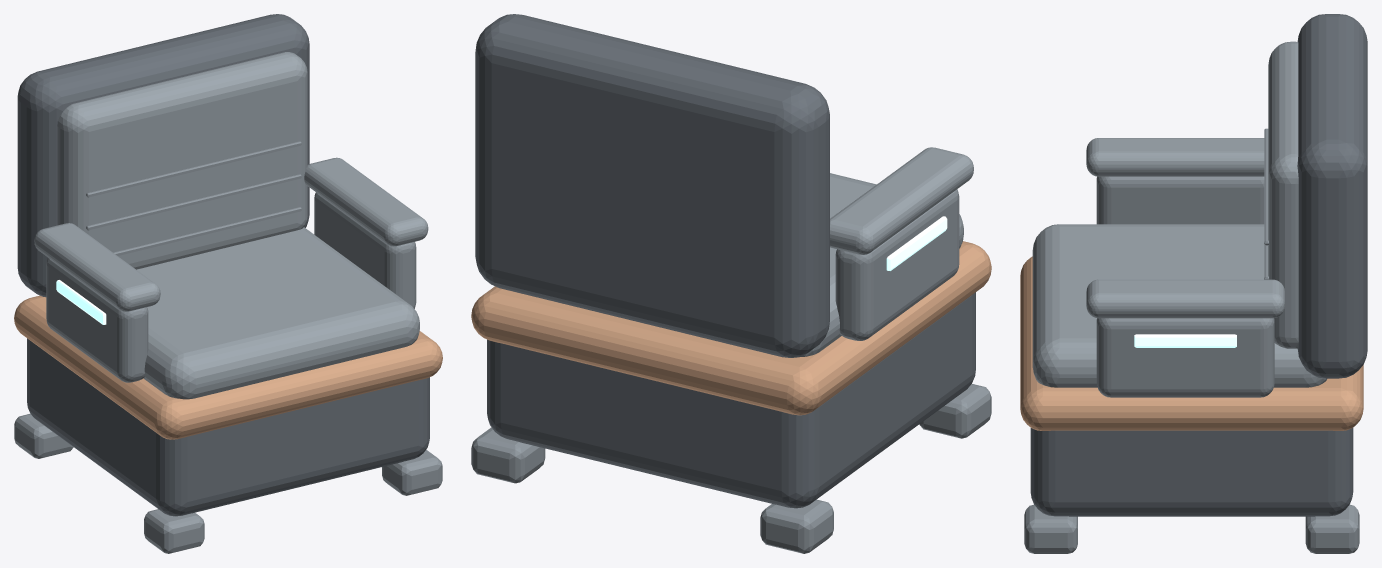
Rendered from reading_armchair.glb.
3 views of the same model, side by side, from view 1: azimuth 30°, elevation 25°; view 2: azimuth 150°, elevation 25°; view 3: azimuth 270°, elevation 25° (orthographic). The views are drawn at different scales.
Visible parts, largest first — view 1: back_cushion_009, seat_cushion_007, shell_005, back_shell_008, seat_frame_006, shell_013, shell_014, shell_017, shell_016, foot_002, foot_004, foot_001 (+4 smaller); view 2: back_shell_008, shell_005, seat_frame_006, shell_013, shell_014, foot_001, foot_003, foot_002, seat_cushion_007, shell_015; view 3: shell_005, back_shell_008, seat_cushion_007, seat_frame_006, shell_016, back_cushion_009, shell_013, shell_017, shell_014, foot_003, foot_004, shell_018 (+1 smaller).
Boxes of the visible parts, box(x1,y1,x2,y2) form: back_cushion_009: box(57, 52, 307, 269); seat_cushion_007: box(136, 227, 419, 399); shell_005: box(27, 338, 429, 516); back_shell_008: box(17, 14, 309, 297); seat_frame_006: box(14, 295, 442, 439); shell_013: box(46, 257, 148, 382); shell_014: box(34, 223, 160, 311); shell_017: box(304, 157, 428, 246); shell_016: box(314, 192, 416, 308); foot_002: box(144, 509, 204, 553); foot_004: box(382, 449, 442, 495); foot_001: box(14, 413, 73, 458); back_shell_008: box(475, 14, 829, 357); shell_005: box(487, 292, 975, 508); seat_frame_006: box(471, 241, 991, 415); shell_013: box(835, 189, 959, 340); shell_014: box(830, 147, 973, 254); foot_001: box(760, 499, 833, 553); foot_003: box(471, 427, 545, 483); foot_002: box(919, 384, 991, 438); seat_cushion_007: box(799, 173, 963, 357); shell_015: box(886, 216, 947, 270); shell_005: box(1030, 428, 1353, 516); back_shell_008: box(1297, 14, 1367, 378); seat_cushion_007: box(1032, 224, 1326, 387); seat_frame_006: box(1020, 256, 1363, 430); shell_016: box(1096, 318, 1274, 397); back_cushion_009: box(1268, 41, 1298, 348); shell_013: box(1096, 176, 1264, 224); shell_017: box(1086, 279, 1284, 318); shell_014: box(1086, 138, 1264, 176); foot_003: box(1305, 504, 1359, 553); foot_004: box(1024, 504, 1077, 553); shell_018: box(1134, 334, 1236, 347).
Size of the model in its own units: 0.94 by 1.08 by 0.84.
